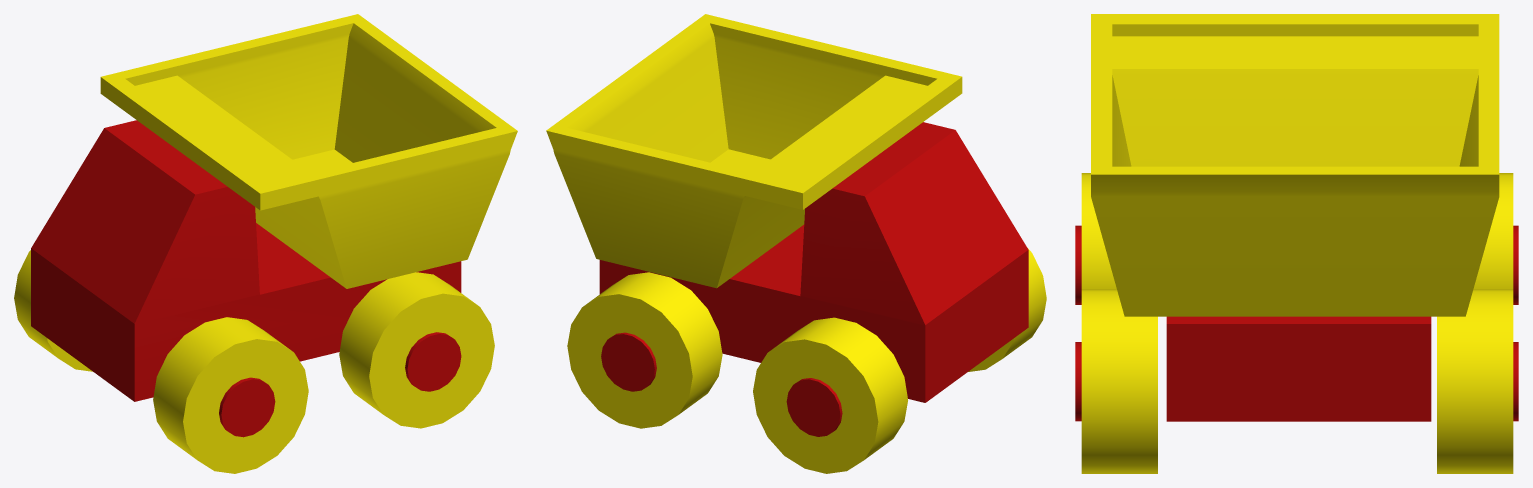
File: Truck.FBX
3 views of the same model, side by side, from view 1: azimuth 30°, elevation 25°; view 2: azimuth 150°, elevation 25°; view 3: azimuth 270°, elevation 25° (orthographic). The views are drawn at different scales.
Parts seen in each view (by area): view 1: truck; view 2: truck; view 3: truck.
Boxes of the visible parts, bbox=[...] form: truck: bbox=[14, 14, 517, 473]; truck: bbox=[546, 14, 1046, 473]; truck: bbox=[1075, 14, 1518, 473].
Size of the model in its own units: 9.64 by 7.04 by 8.19.
